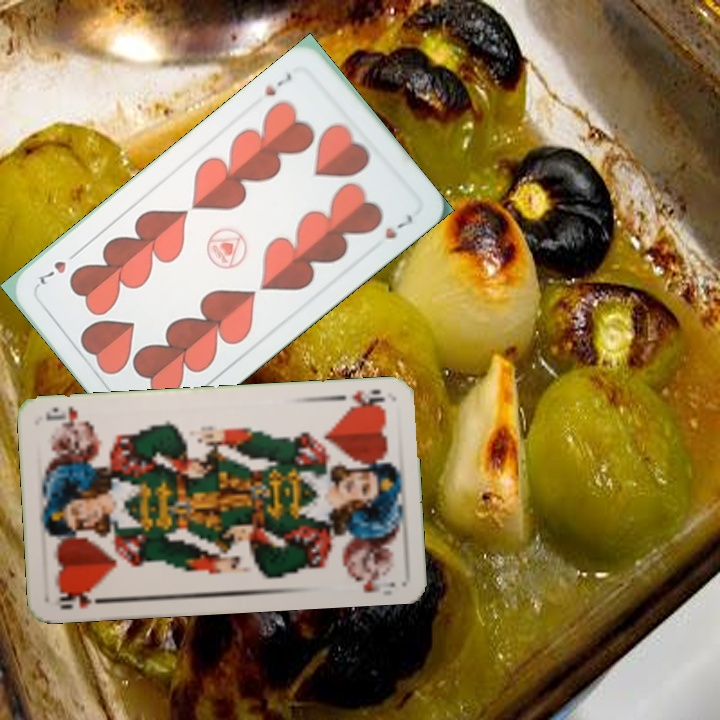H7: (261, 68, 295, 99)
HO: (331, 385, 390, 413), (55, 586, 111, 612)
